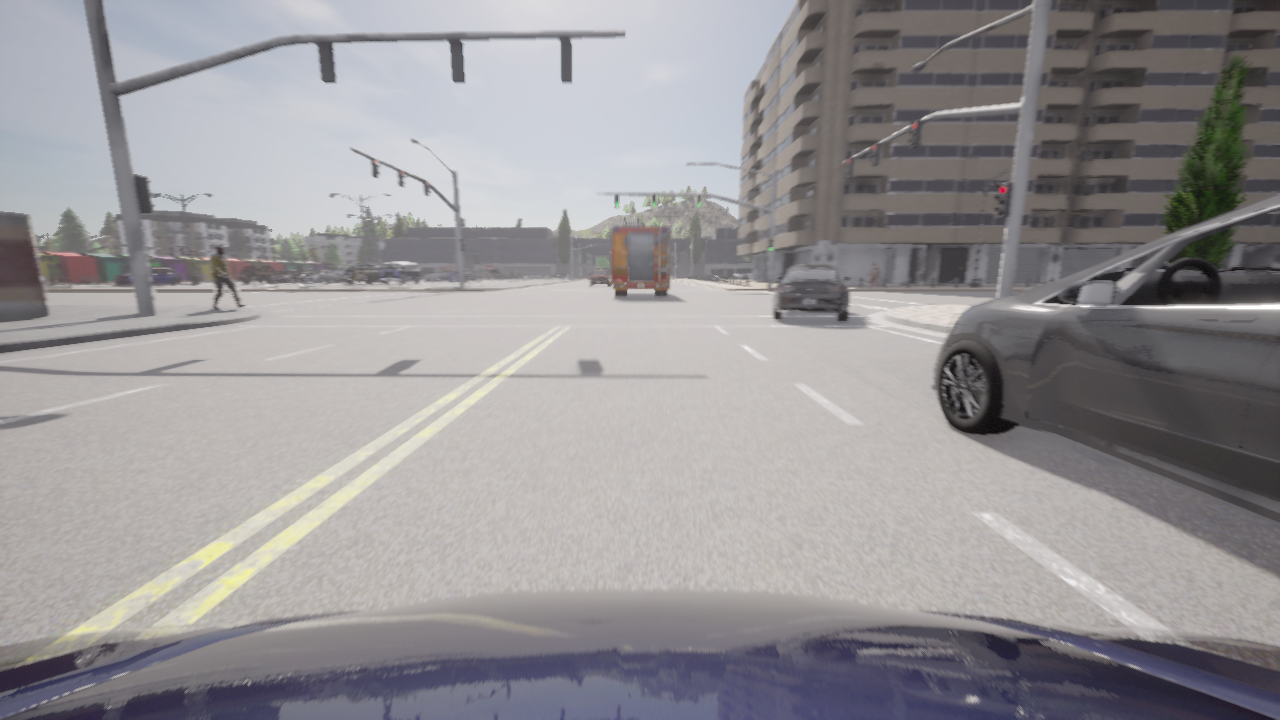cyclist: (0, 588, 1279, 719), (932, 193, 1279, 522), (611, 216, 670, 296), (772, 264, 850, 321), (115, 267, 181, 284), (380, 262, 420, 284), (344, 264, 383, 284), (239, 265, 279, 283), (300, 269, 338, 283), (270, 269, 304, 283), (589, 270, 611, 286), (448, 269, 475, 281), (333, 266, 349, 281), (425, 270, 447, 280), (505, 268, 522, 279), (489, 268, 504, 279), (295, 267, 314, 273), (376, 266, 379, 269), (474, 273, 476, 275), (280, 270, 282, 271)
pedestrian: (210, 245, 246, 310), (867, 262, 880, 287)
